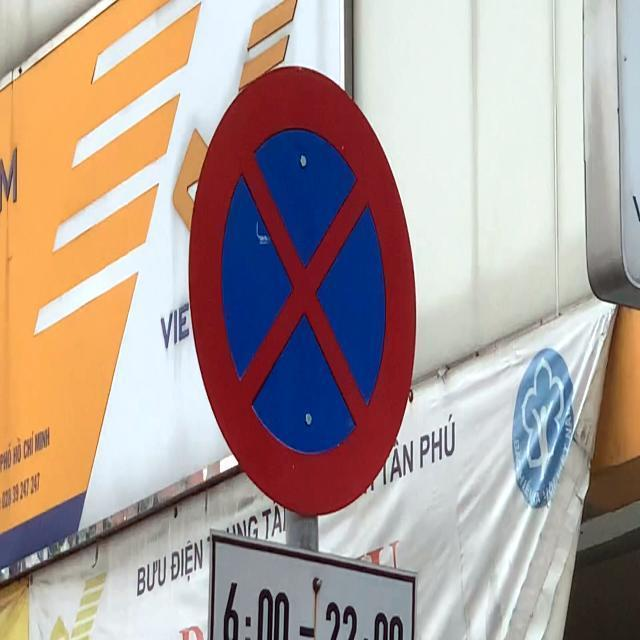130-cam-dung-va-do-xe: (188, 68, 418, 512)
